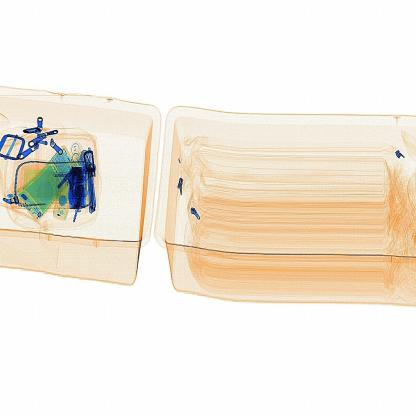scissors: (65, 159, 97, 215)
